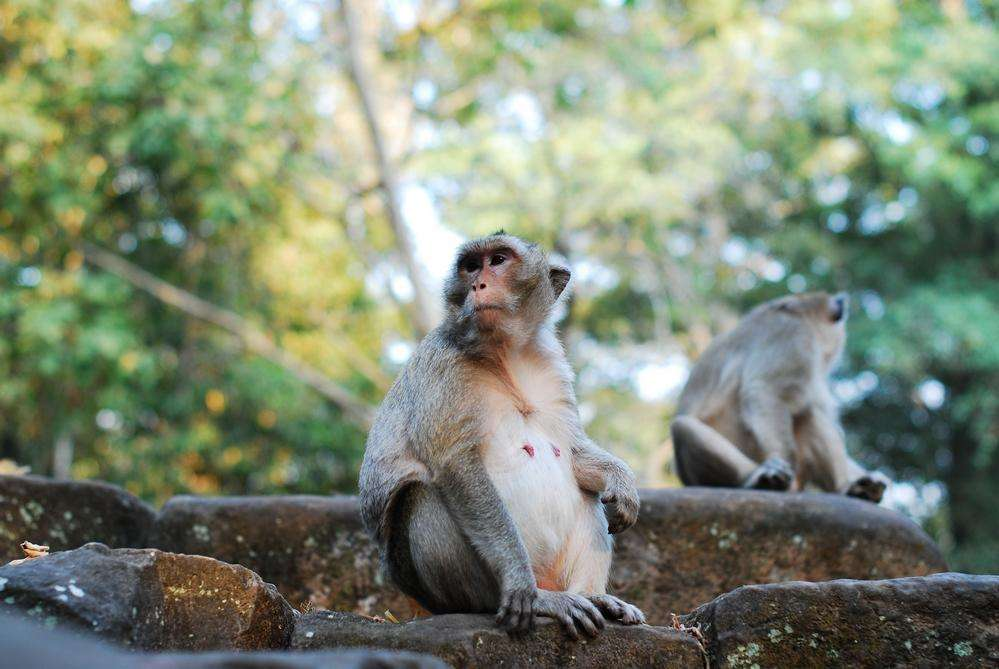monkey: (369, 228, 662, 637), (680, 239, 906, 508)
